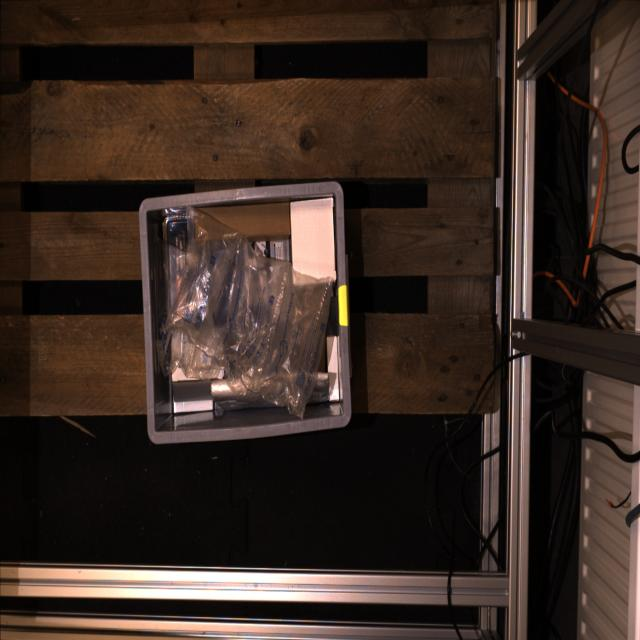CardboardBox: (292, 198, 337, 285), (200, 205, 289, 238), (172, 369, 213, 402), (327, 336, 340, 401), (174, 397, 213, 413)
ItemPackaging: (163, 210, 188, 305), (254, 239, 290, 260)
PackagingAirBags: (166, 210, 333, 411)
